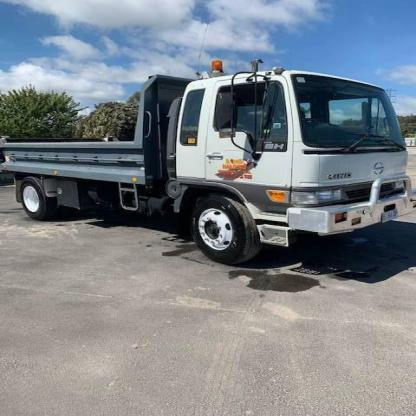dump_truck: (0, 67, 415, 266)
